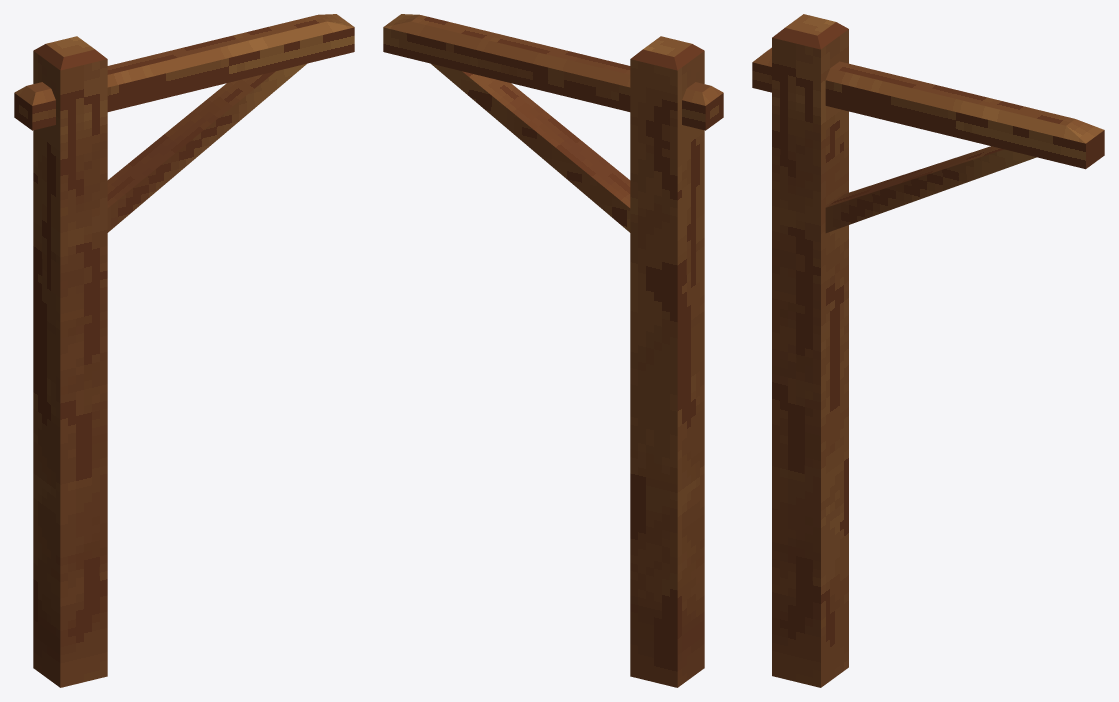
Rendered from signpost.glb.
3 views of the same model, side by side, from view 1: azimuth 30°, elevation 25°; view 2: azimuth 150°, elevation 25°; view 3: azimuth 330°, elevation 25° (orthographic). The views are drawn at different scales.
Visible parts, largest first — view 1: Cube, Cube.003, Cube.004; view 2: Cube, Cube.003, Cube.004; view 3: Cube, Cube.003, Cube.004.
Part boxes in pixels (box(x1,y1,x2,y2)): Cube: box(33, 36, 107, 687); Cube.003: box(14, 14, 354, 130); Cube.004: box(107, 63, 306, 232); Cube: box(630, 36, 704, 687); Cube.003: box(383, 14, 723, 130); Cube.004: box(431, 63, 630, 232); Cube: box(772, 14, 848, 687); Cube.003: box(752, 47, 1104, 169); Cube.004: box(825, 146, 1036, 232).
Bounding box in the file's own units: 2.56 × 4.75 × 0.375.
1 material, 1 textured.
